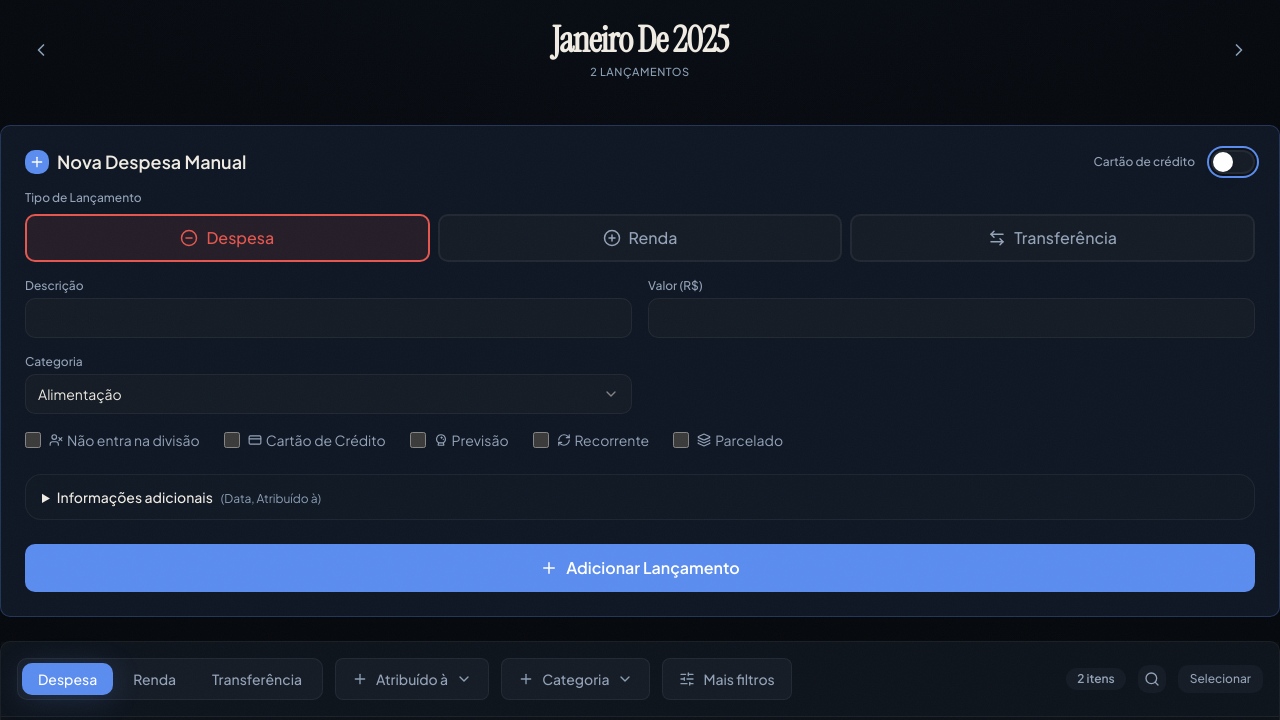
Scenario: TransactionsView › Add transaction › selecting a date after today auto-checks Previsão (forecast)
This screenshot has width=1280, height=720.
Click the heading "Informações adicionais(Data, Atribuído à)" at (189, 497), box [57,488,321,506]
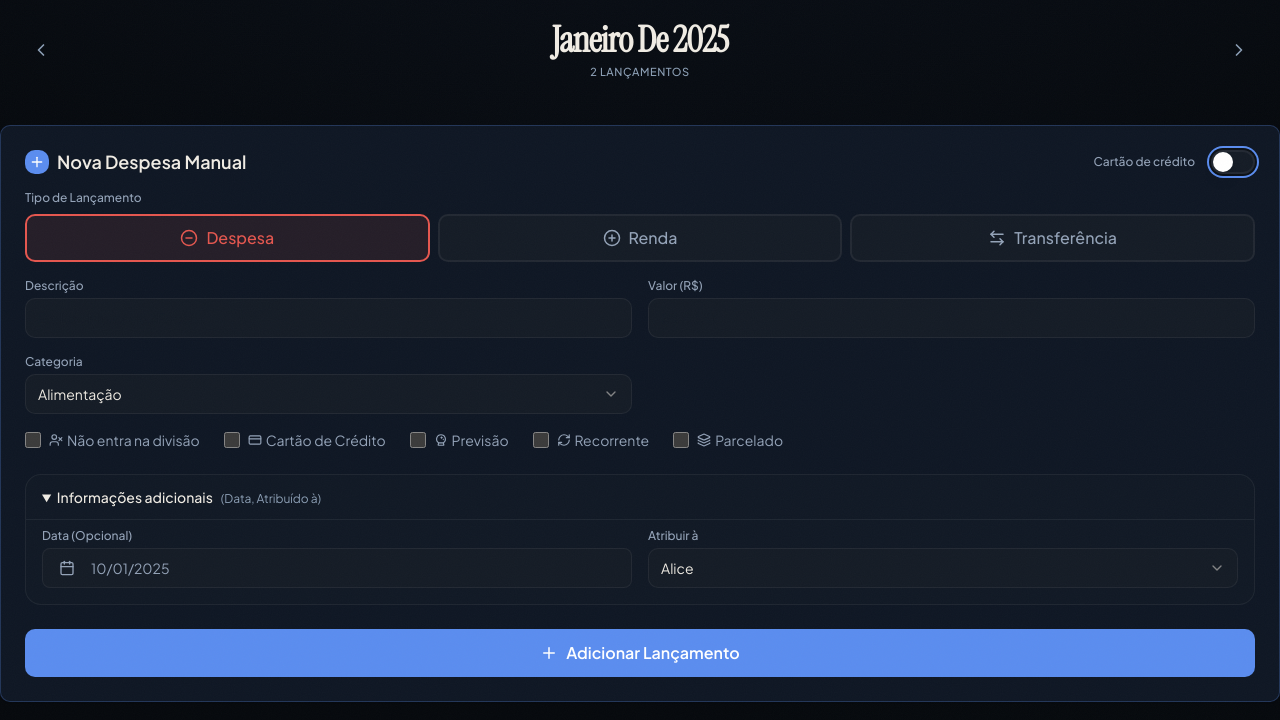
Result: the button named "Data" is shown
Click the button named "Data" at (130, 568), box [42,548,632,588]
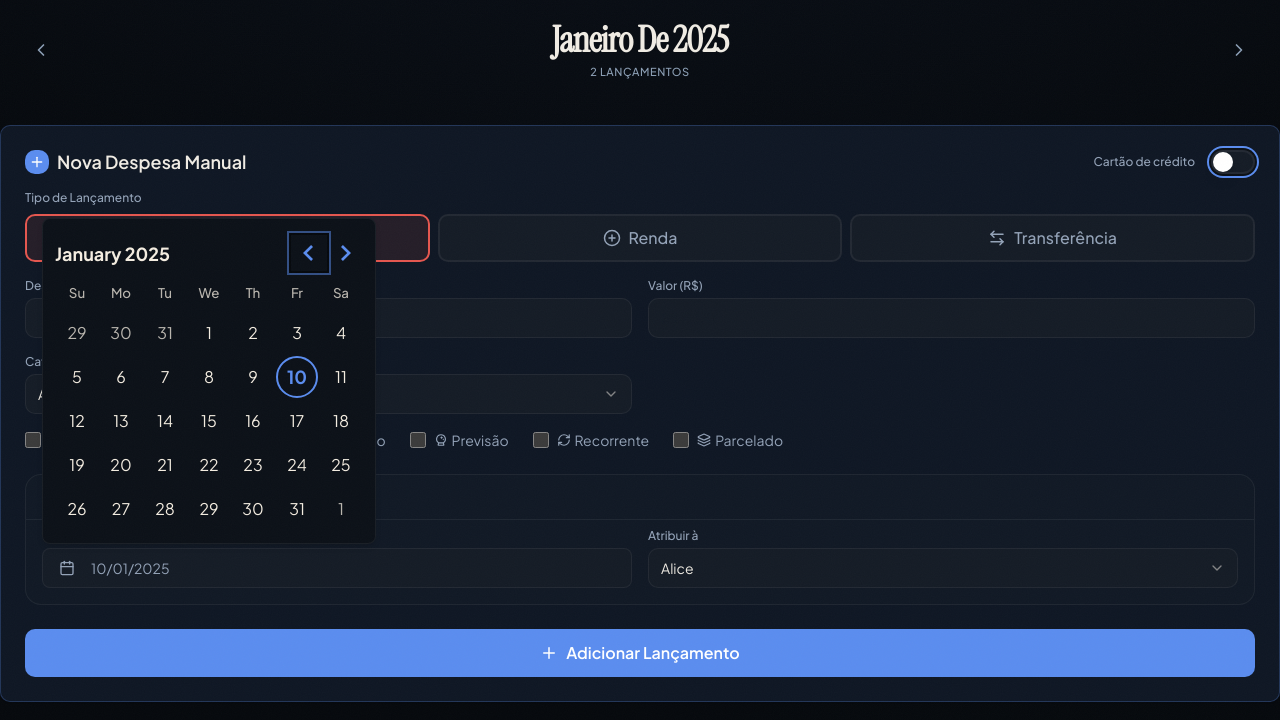
Click the button named "January 25" at (341, 465), box [320,444,362,486]
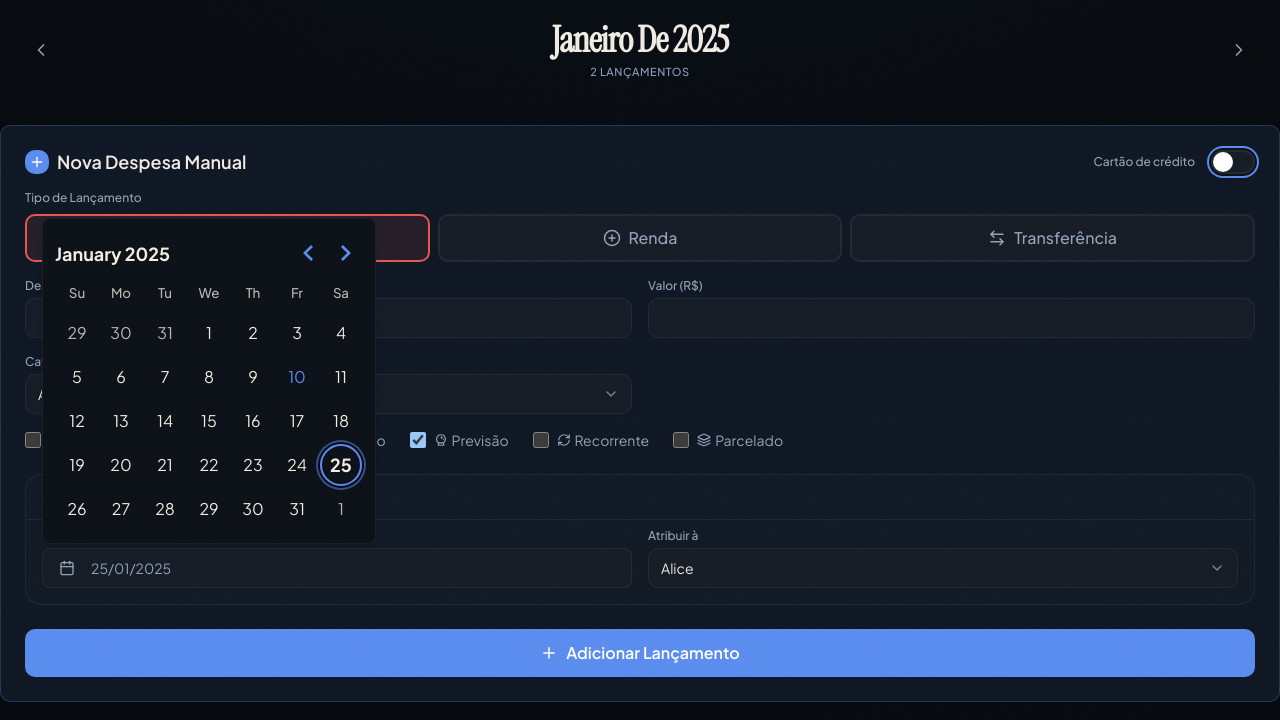
Result: the checkbox with id "new-transaction-forecast" is checked at [410,432,426,448]
